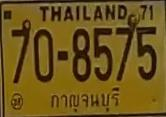0: (33, 28, 53, 82)
5: (136, 26, 156, 79), (93, 26, 112, 80)
7: (115, 26, 134, 80), (12, 29, 30, 83)
8: (72, 28, 90, 81)
KRI: (47, 85, 122, 113)
